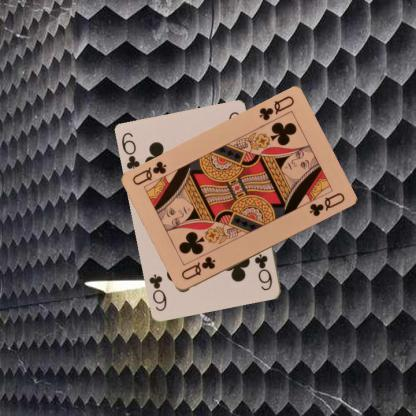6c: (119, 130, 142, 172), (252, 252, 274, 292)
Qc: (256, 93, 295, 123), (178, 254, 216, 282)
